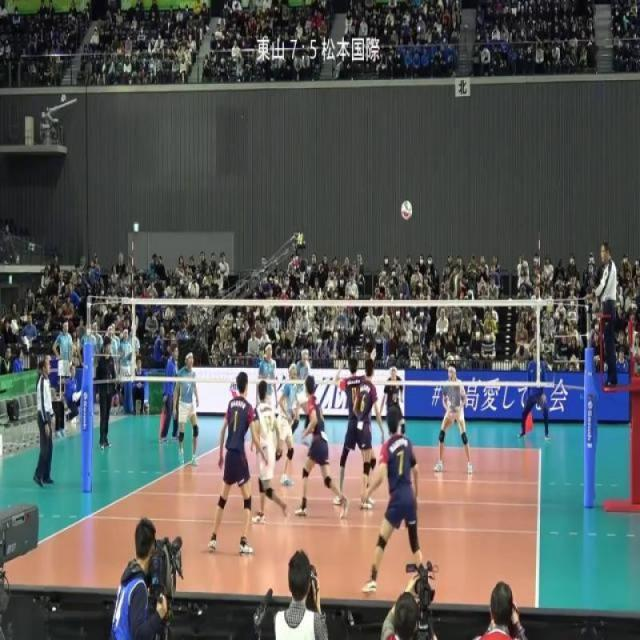volleyball: (400, 199, 413, 221)
